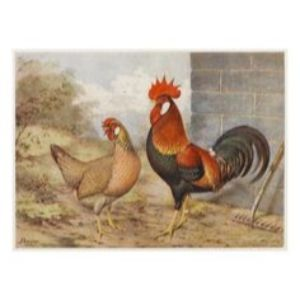hen: (144, 74, 274, 240), (42, 115, 142, 238)
